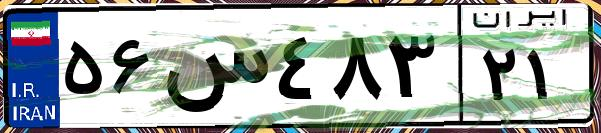1: (525, 38, 570, 115)
2: (475, 38, 525, 113)
3: (385, 28, 445, 110)
4: (270, 28, 330, 110)
5: (57, 26, 110, 100)
6: (110, 28, 158, 98)
8: (330, 28, 385, 110)
س: (158, 20, 270, 120)
